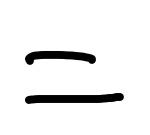eqv: (25, 51, 124, 104)
